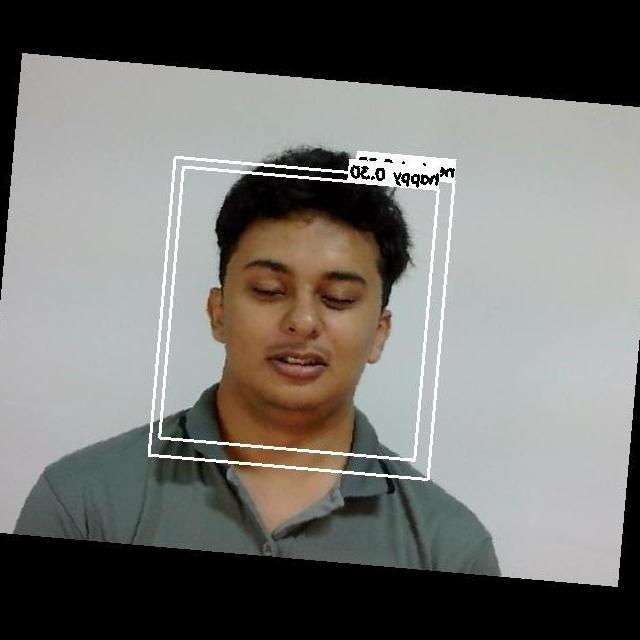Fear: (199, 225, 385, 406)
